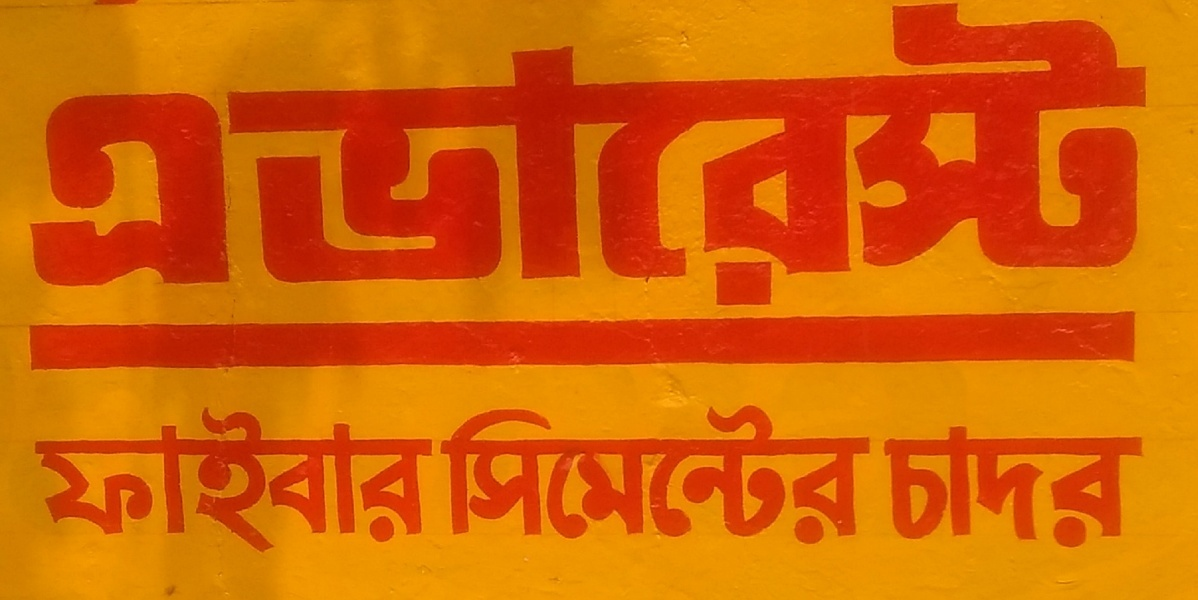text: (33, 3, 48, 329), (49, 3, 64, 329), (65, 3, 80, 329), (81, 3, 96, 329), (97, 3, 112, 329), (113, 3, 128, 329), (129, 3, 144, 329), (145, 3, 160, 329), (161, 3, 176, 329), (177, 3, 192, 329), (193, 3, 208, 329), (209, 3, 224, 329), (225, 3, 240, 329), (241, 3, 256, 329), (257, 3, 272, 329), (273, 3, 288, 329), (289, 3, 304, 329), (305, 3, 320, 329), (321, 3, 336, 329), (337, 3, 352, 329), (353, 3, 368, 329), (369, 3, 384, 329), (385, 3, 400, 329), (401, 3, 416, 329), (417, 3, 432, 329), (433, 3, 448, 329), (449, 3, 464, 329), (465, 3, 480, 329), (481, 3, 496, 329), (497, 3, 512, 329), (513, 3, 528, 329), (529, 3, 544, 329), (545, 3, 560, 329), (561, 3, 576, 329), (577, 3, 592, 329), (593, 3, 608, 329), (609, 3, 624, 329), (625, 3, 640, 329), (641, 3, 656, 329), (657, 3, 672, 329), (673, 3, 688, 329), (689, 3, 704, 329), (705, 3, 720, 329), (721, 3, 736, 329), (737, 3, 752, 329), (753, 3, 768, 329), (769, 3, 784, 329), (785, 3, 800, 329), (801, 3, 816, 329), (817, 3, 832, 329), (833, 3, 848, 329), (849, 3, 864, 329), (865, 3, 880, 329), (881, 3, 896, 329), (897, 3, 912, 329), (913, 3, 928, 329), (929, 3, 944, 329), (945, 3, 960, 329), (961, 3, 976, 329), (977, 3, 992, 329), (993, 3, 1008, 329), (1009, 3, 1024, 329), (1025, 3, 1040, 329), (1041, 3, 1056, 329), (1057, 3, 1072, 329), (1073, 3, 1088, 329), (1089, 3, 1104, 329), (1105, 3, 1120, 329), (1121, 3, 1136, 329), (1137, 3, 1152, 329), (1153, 3, 1168, 329), (22, 3, 32, 329), (49, 406, 64, 564), (65, 406, 80, 564), (81, 406, 96, 564), (97, 406, 112, 564), (113, 406, 128, 564), (129, 406, 144, 564), (145, 406, 160, 564), (161, 406, 176, 564), (177, 406, 192, 564), (193, 406, 208, 564), (209, 406, 224, 564), (225, 406, 240, 564), (241, 406, 256, 564), (257, 406, 272, 564), (273, 406, 288, 564), (289, 406, 304, 564), (305, 406, 320, 564), (321, 406, 336, 564), (337, 406, 352, 564), (353, 406, 368, 564), (369, 406, 384, 564), (385, 406, 400, 564), (401, 406, 416, 564), (417, 406, 432, 564), (449, 405, 464, 548), (465, 405, 480, 548), (481, 405, 496, 548), (497, 405, 512, 548), (513, 405, 528, 548), (529, 405, 544, 548), (545, 405, 560, 548), (561, 405, 576, 548), (577, 405, 592, 548), (593, 405, 608, 548), (609, 405, 624, 548), (625, 405, 640, 548), (641, 405, 656, 548), (657, 405, 672, 548), (673, 405, 688, 548), (689, 405, 704, 548), (705, 405, 720, 548), (721, 405, 736, 548), (737, 405, 752, 548), (753, 405, 768, 548), (769, 405, 784, 548), (785, 405, 800, 548), (801, 405, 816, 548), (817, 405, 832, 548), (833, 405, 848, 548), (849, 405, 864, 548), (35, 406, 48, 564), (897, 426, 912, 551), (913, 426, 928, 551), (929, 426, 944, 551), (945, 426, 960, 551), (961, 426, 976, 551), (977, 426, 992, 551), (993, 426, 1008, 551), (1009, 426, 1024, 551), (1025, 426, 1040, 551), (1041, 426, 1056, 551), (1057, 426, 1072, 551), (1073, 426, 1088, 551), (1089, 426, 1104, 551), (1105, 426, 1120, 551), (1121, 426, 1136, 551), (883, 426, 896, 551), (438, 405, 448, 548), (865, 405, 873, 548), (1137, 426, 1145, 551), (433, 406, 437, 564), (1169, 3, 1170, 329)
